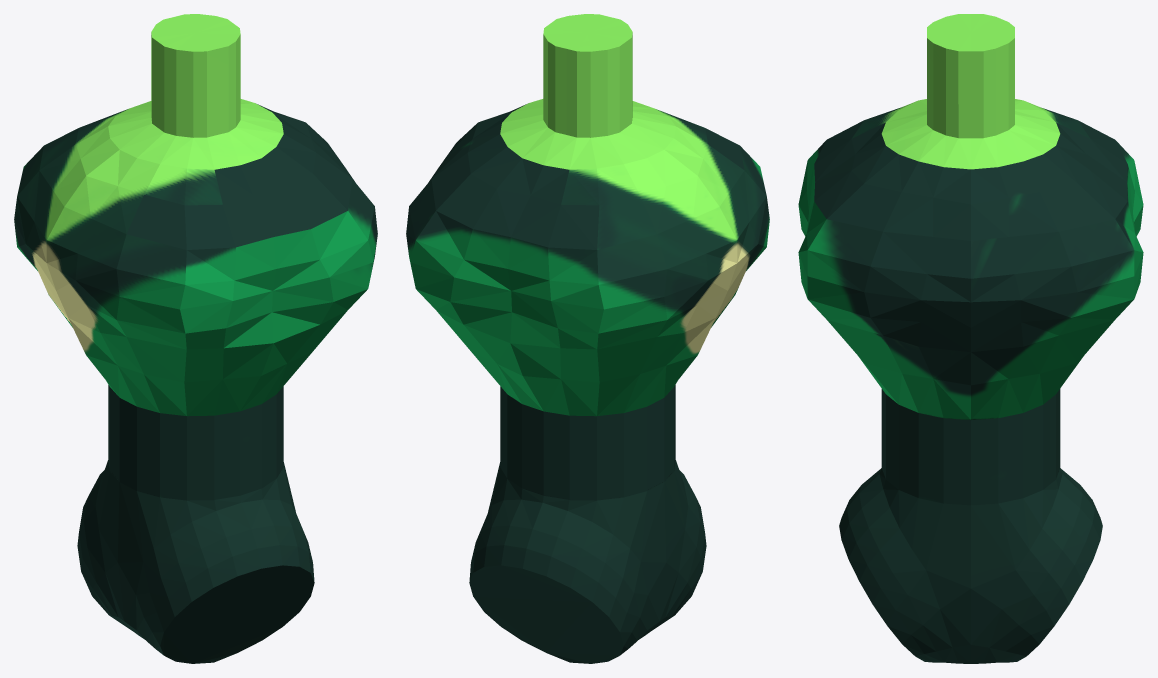
File: Peridot cuerpo.obj
3 renders of one model, left to right at view 1: azimuth 30°, elevation 25°; view 2: azimuth 150°, elevation 25°; view 3: azimuth 270°, elevation 25°, orthographic.
Visible parts, largest first — view 1: Cuerpo, Cuerpo2; view 2: Cuerpo, Cuerpo2; view 3: Cuerpo, Cuerpo2.
Boxes of the visible parts, x1,y1,x2,y2 form: Cuerpo: (14,14,377,500); Cuerpo2: (77,460,314,663); Cuerpo: (406,14,769,500); Cuerpo2: (469,460,706,663); Cuerpo: (798,14,1143,505); Cuerpo2: (839,468,1102,663).
Size of the model in its own units: 2.24 by 4.41 by 2.21.
